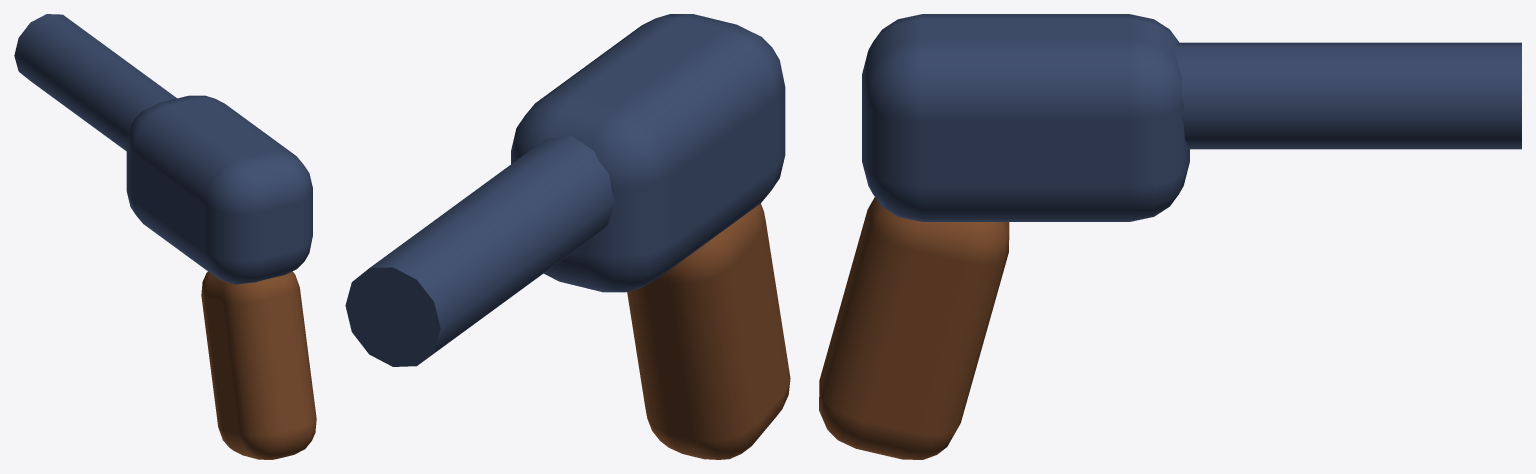
Rendered from placeholder_revolver_38.glb.
3 renders of one model, left to right at view 1: azimuth 30°, elevation 25°; view 2: azimuth 150°, elevation 25°; view 3: azimuth 270°, elevation 25°, orthographic. The views are drawn at different scales.
Parts seen in each view (by area): view 1: placeholder_revolver_38, body; view 2: placeholder_revolver_38, body; view 3: placeholder_revolver_38, body.
Part boxes in pixels (box(x1,y1,x2,y2)): placeholder_revolver_38: box(14, 14, 316, 459); body: box(126, 95, 312, 284); placeholder_revolver_38: box(345, 136, 790, 459); body: box(511, 14, 785, 292); placeholder_revolver_38: box(819, 42, 1521, 459); body: box(862, 14, 1189, 221).
Bounding box in the file's own units: 0.07 × 0.1908 × 0.2891.
